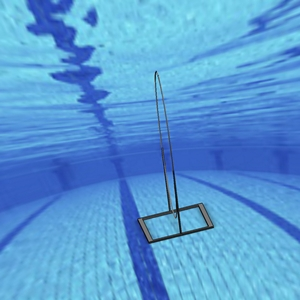circle: (133, 68, 213, 243)
